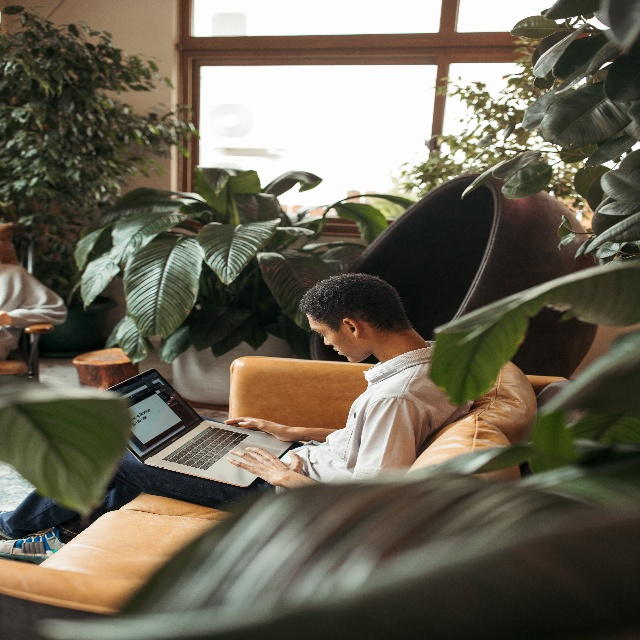Sin_guantes: (226, 447, 303, 487), (224, 416, 293, 442)
